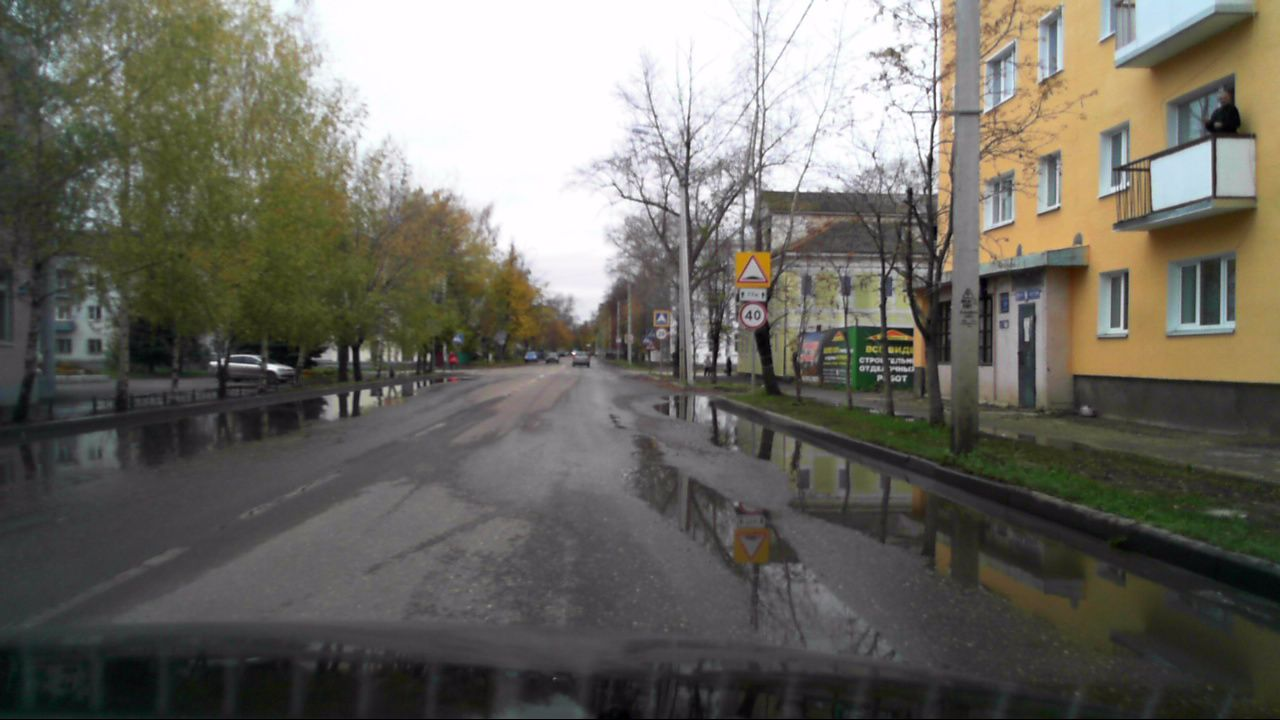speed_warning_40: (740, 301, 767, 328)
